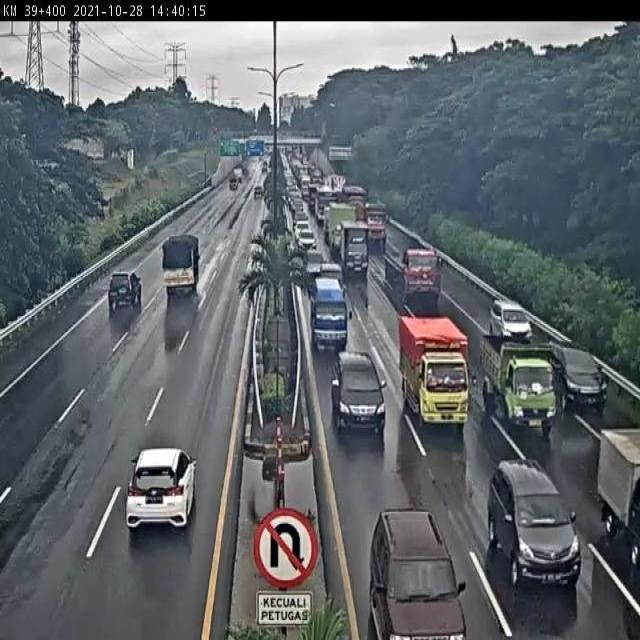car: (489, 452, 584, 583), (125, 442, 202, 534), (330, 348, 386, 433), (550, 337, 607, 411), (488, 296, 535, 348), (106, 270, 142, 310), (302, 244, 326, 279), (318, 263, 345, 292), (296, 230, 319, 254)
truck: (397, 308, 472, 428), (477, 330, 557, 438), (387, 239, 444, 301), (309, 274, 349, 354), (162, 233, 202, 296), (341, 220, 371, 273)
